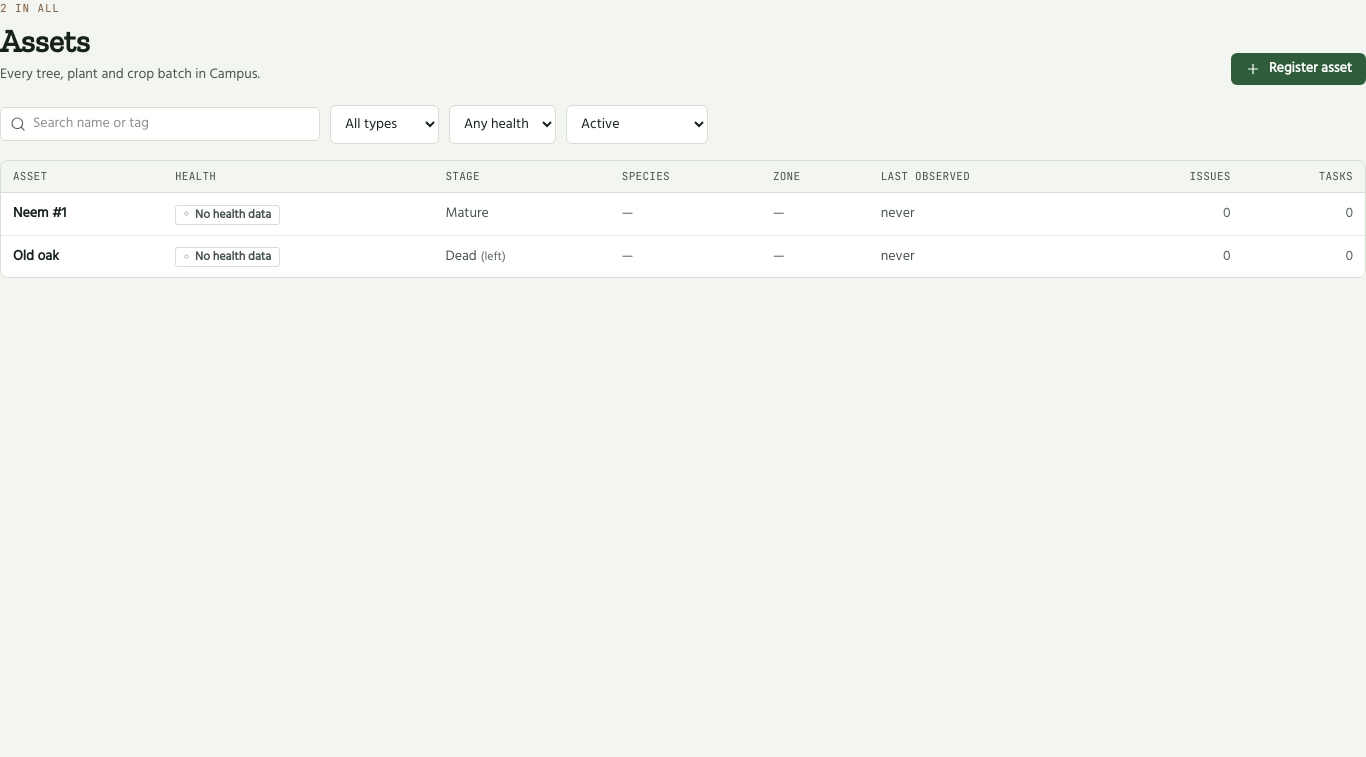
use my location while registering (ADR-079) › says when permission was refused and leaves the fields alone
Click the button "Register asset". click: (1298, 68)
box: top-left (1231, 52), bottom-right (1365, 84)
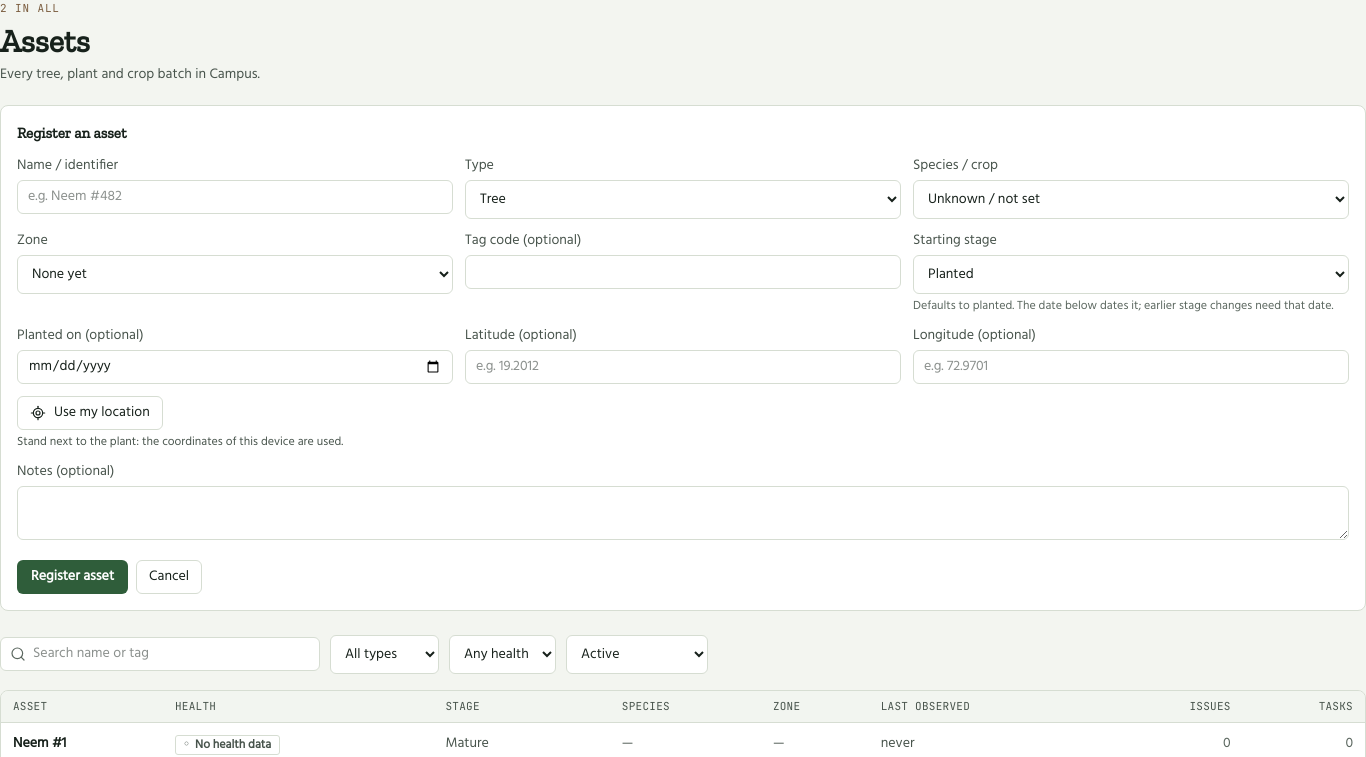
Click the button "Use my location". click: (90, 413)
box: top-left (17, 396), bottom-right (163, 430)
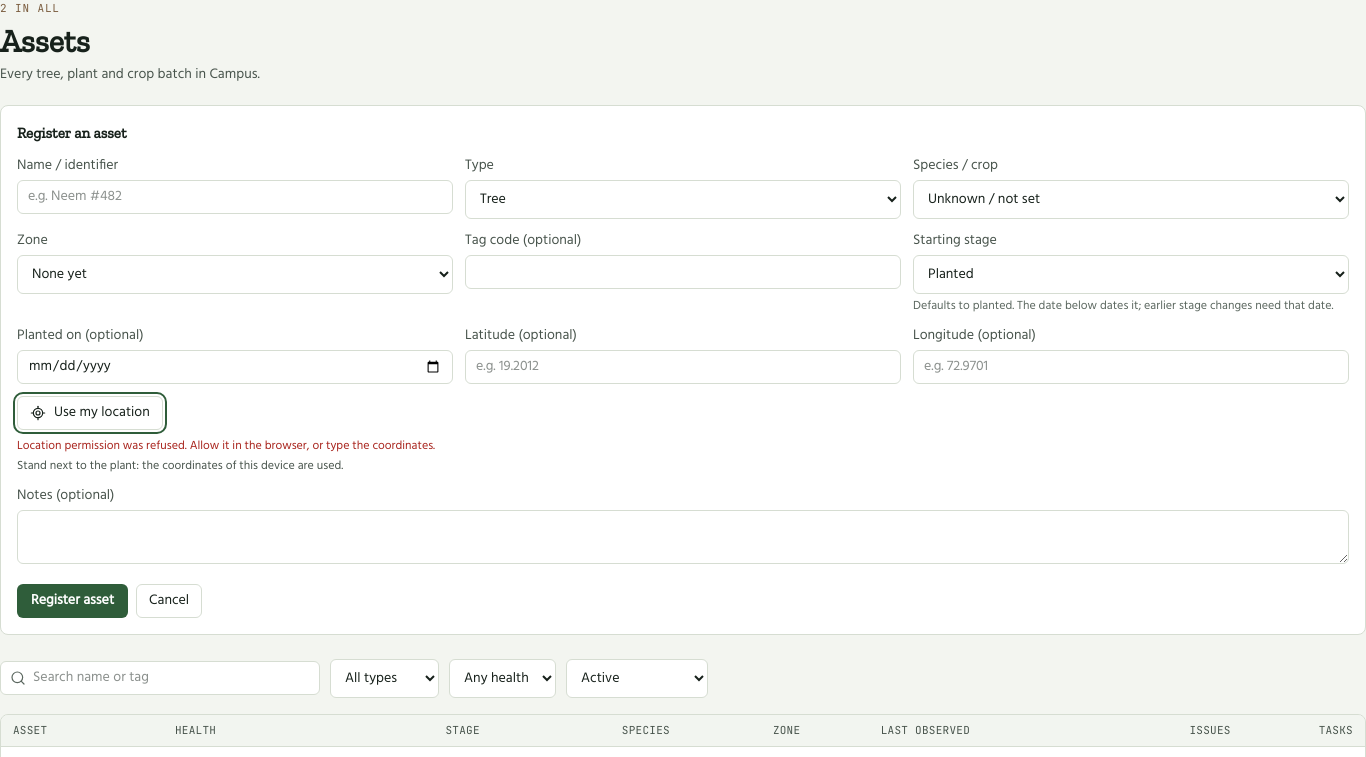
Expected: the field labelled "Latitude (optional)" is empty, top-left (465, 350), bottom-right (901, 384)
Expected: the text "Location permission was refused" is shown, top-left (17, 436), bottom-right (435, 456)
